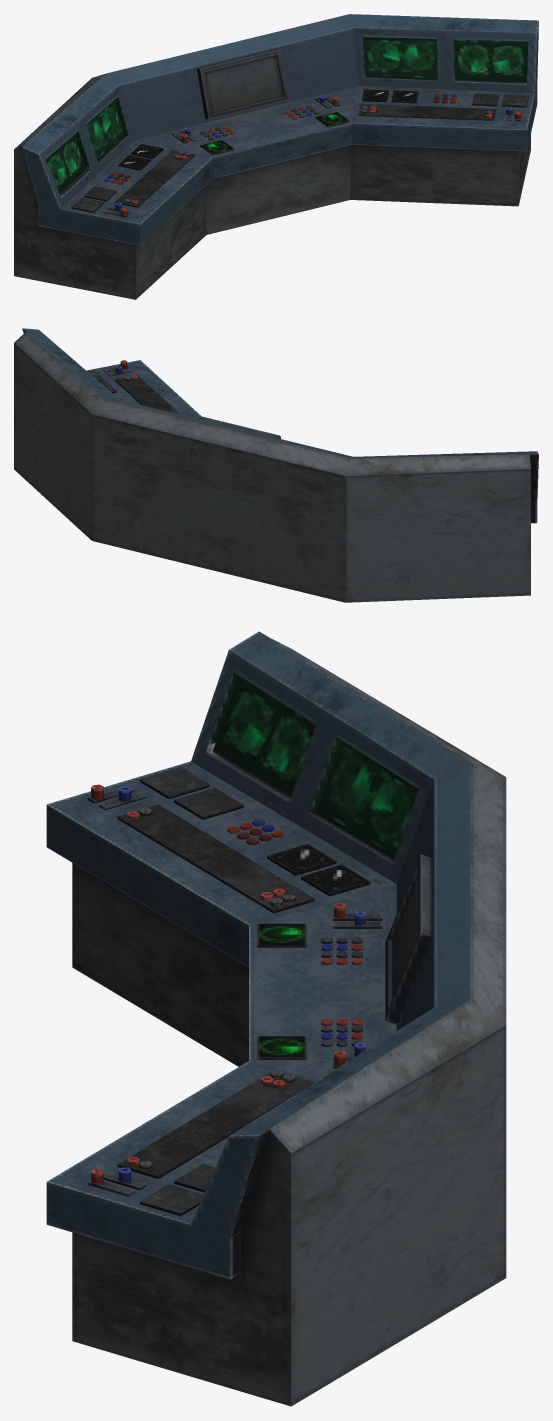
The model's file is Science Desk 1.fbx.
The picture shows the model from 3 angles, top to bottom: view 1: azimuth 30°, elevation 25°; view 2: azimuth 150°, elevation 25°; view 3: azimuth 270°, elevation 25°; orthographic projection. The views are drawn at different scales.
Visible parts, largest first — view 1: Sience Table 1; view 2: Sience Table 1; view 3: Sience Table 1.
Boxes of the visible parts, x1,y1,x2,y2 form: Sience Table 1: (14, 14, 538, 299); Sience Table 1: (14, 328, 538, 602); Sience Table 1: (46, 631, 506, 1406).
Bounding box in the file's own units: 628 × 158 × 242.
